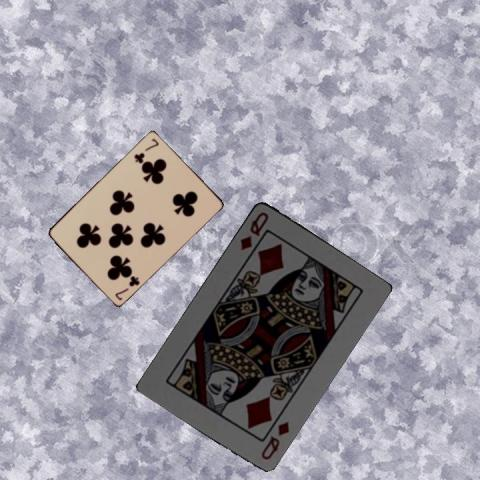7c: (131, 135, 160, 164), (112, 273, 141, 301)
Qd: (237, 208, 270, 259), (257, 418, 291, 462)
